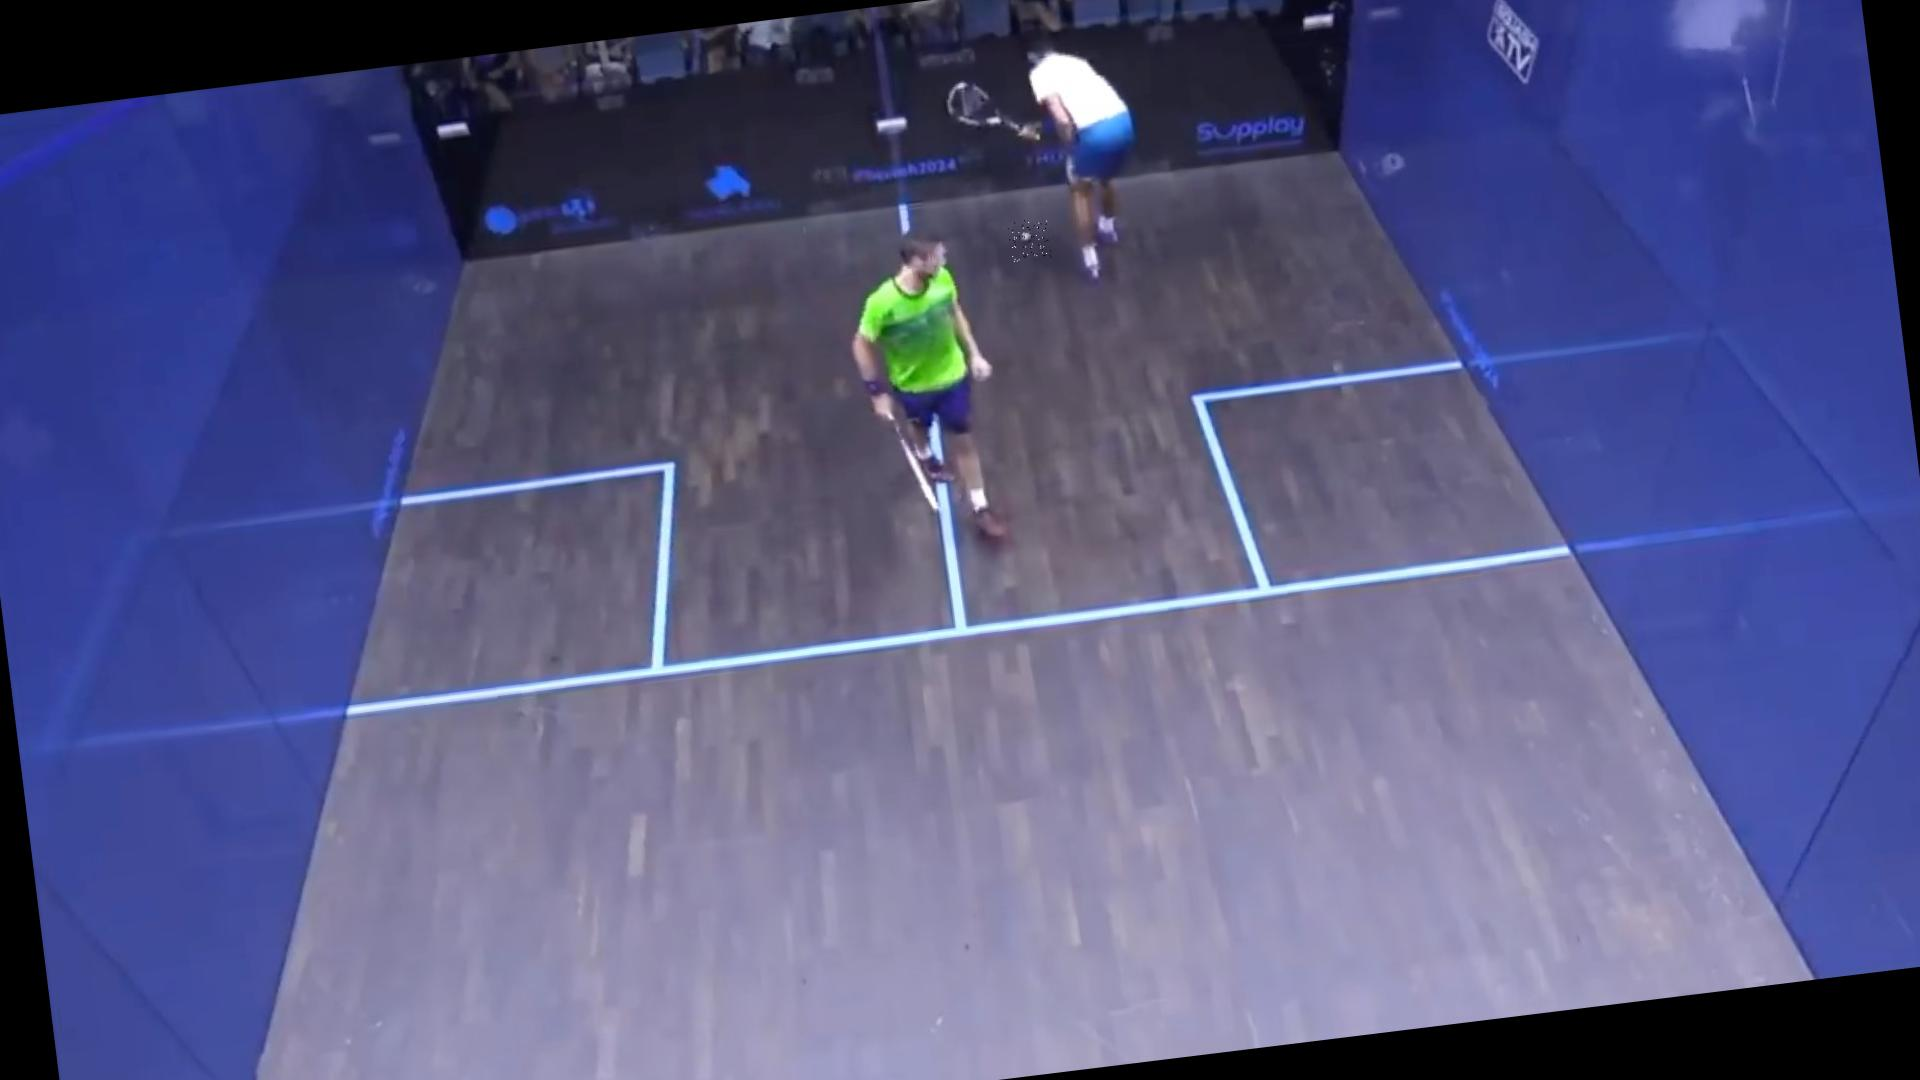Squash-Ball: (1006, 218, 1051, 262)
